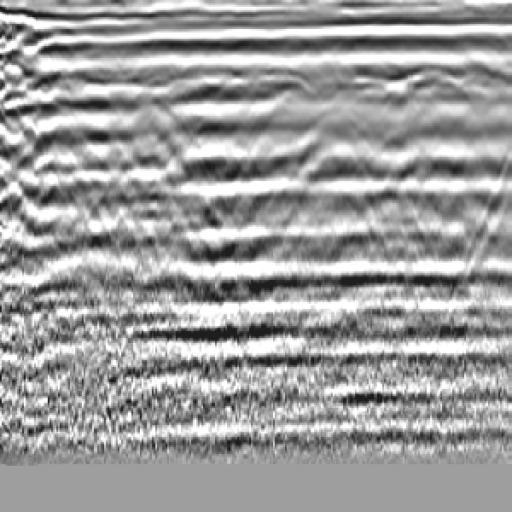metalic: (308, 48, 458, 134)
